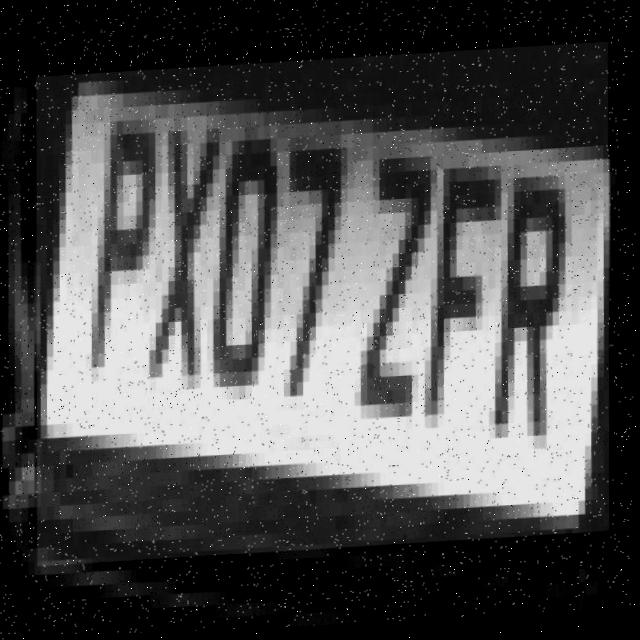LicensePlate: (30, 46, 616, 567)
